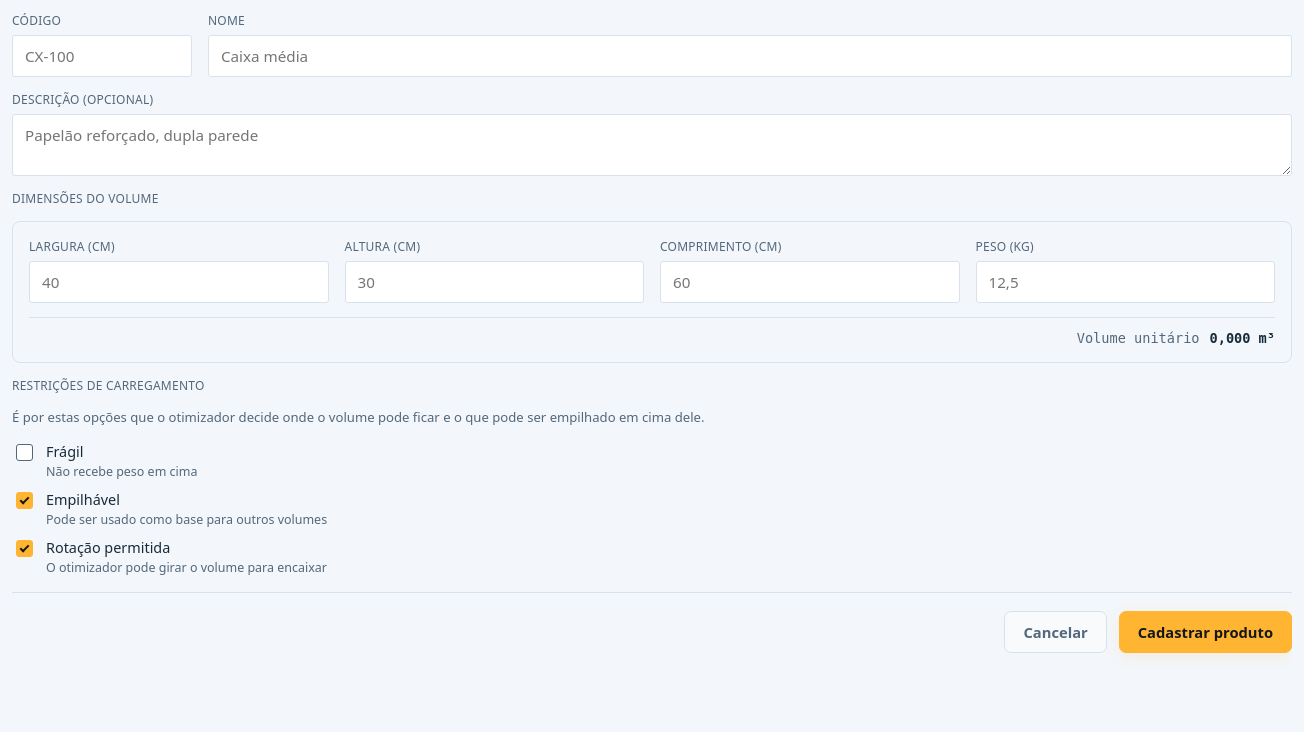
ProductForm › mostra a mensagem mapeada quando o código já existe
Type "pl-200" into the field labelled "CÓDIGO" at (102, 56), box top-left (12, 35), bottom-right (192, 77)
Type "Pallet padrão" into the field labelled "NOME" at (750, 56), box top-left (208, 35), bottom-right (1292, 77)
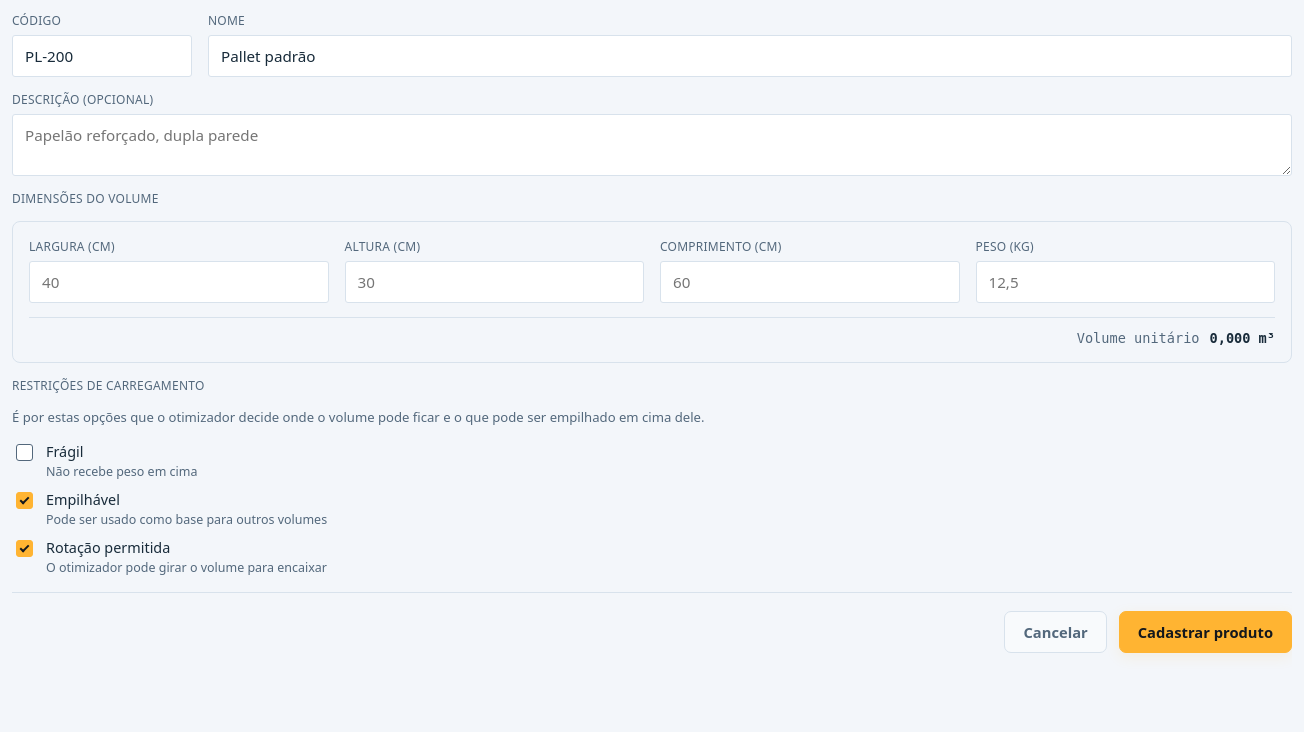
Type "100" into the number field labelled "LARGURA (CM)" at (179, 282), box top-left (29, 261), bottom-right (328, 303)
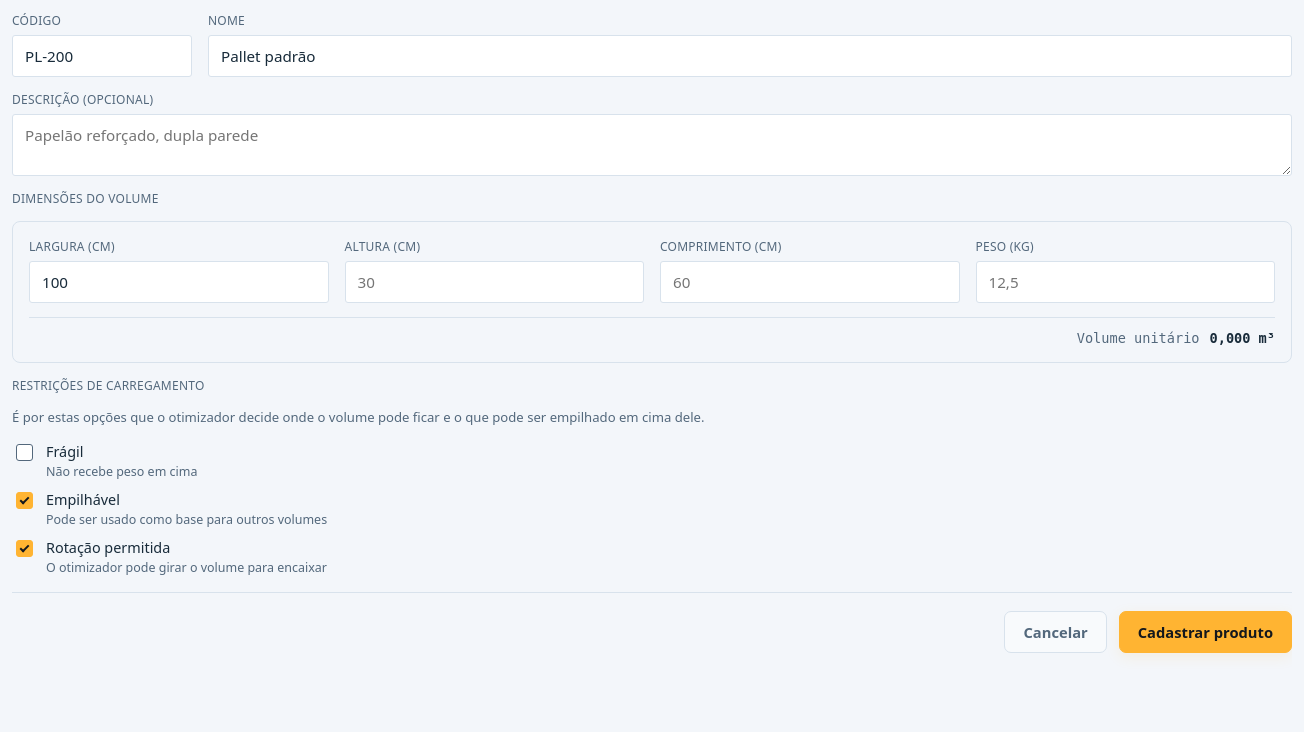
Type "120" into the number field labelled "ALTURA (CM)" at (494, 282), box top-left (344, 261), bottom-right (644, 303)
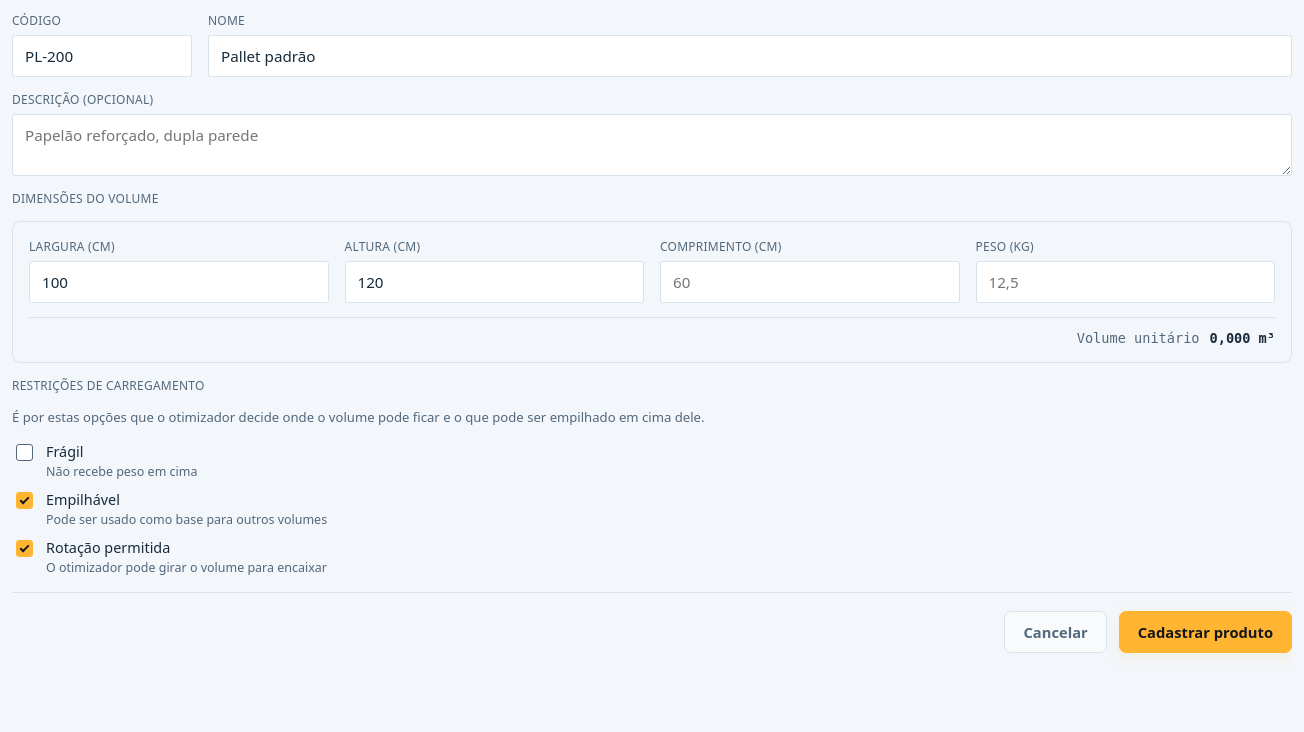
Type "120" into the number field labelled "COMPRIMENTO (CM)" at (810, 282), box top-left (660, 261), bottom-right (960, 303)
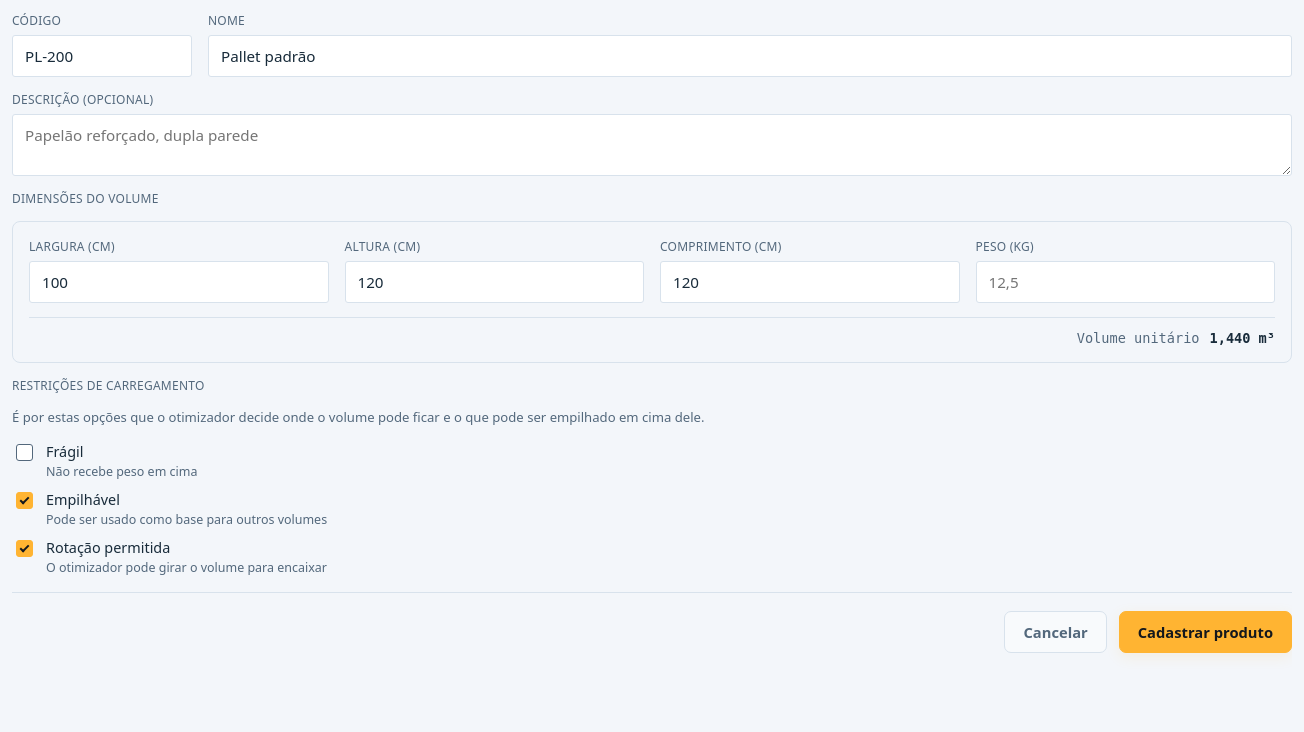
Type "25.5" into the number field labelled "PESO (KG)" at (1125, 282), box top-left (976, 261), bottom-right (1275, 303)
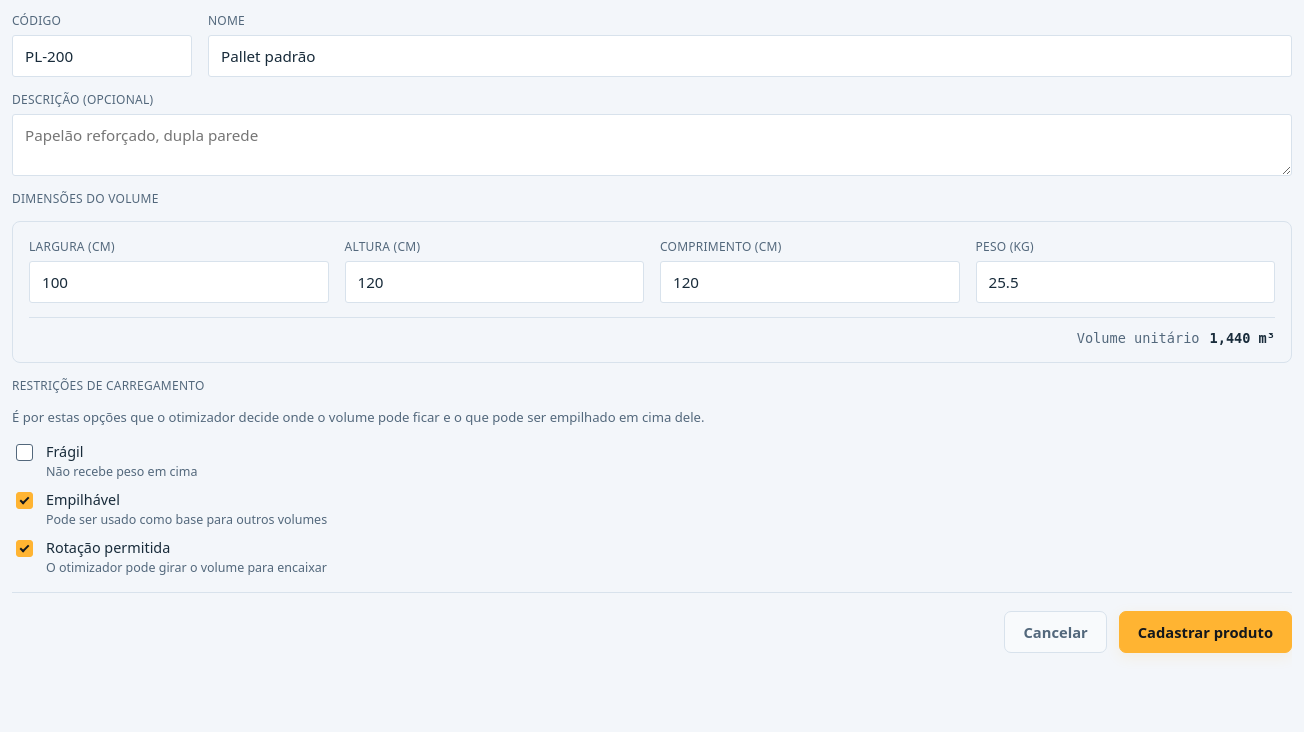
Click the button "Cadastrar produto" at (1205, 632), box top-left (1119, 611), bottom-right (1292, 653)
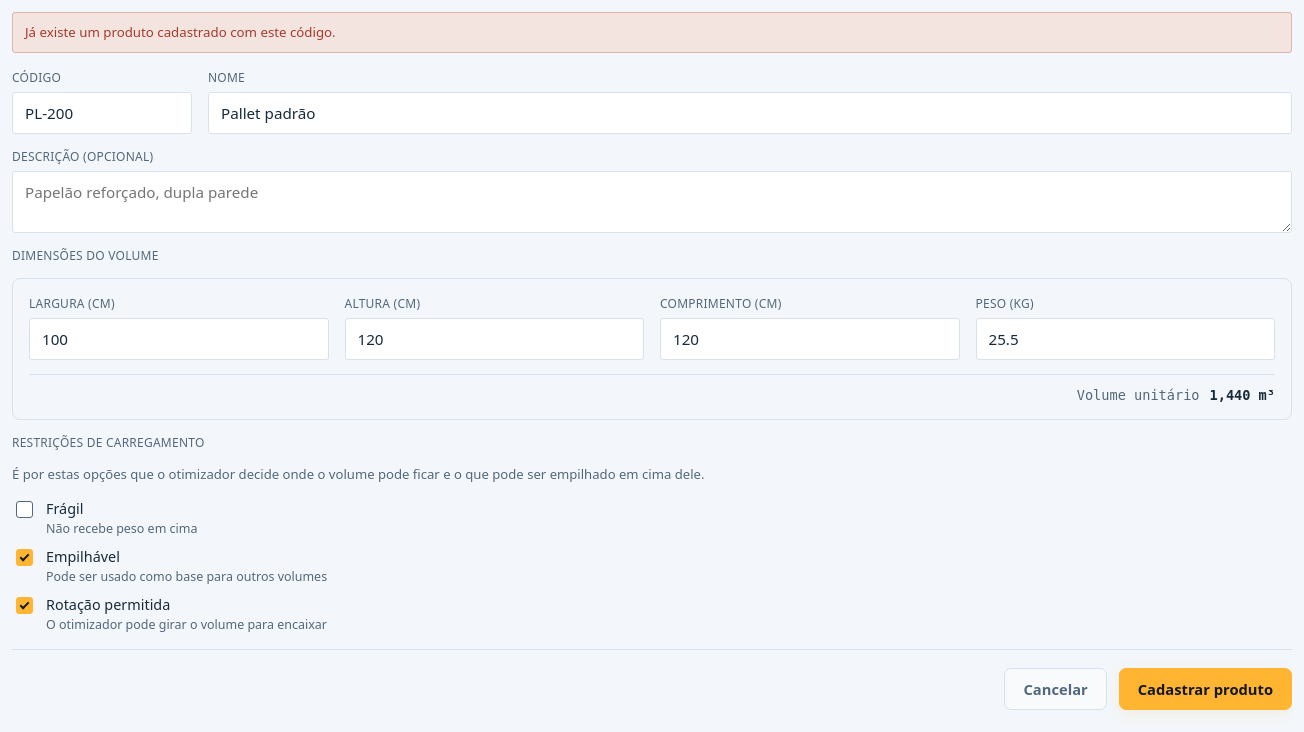
expect the message reads "Já existe um produto cadastrado com este código.": met, box top-left (25, 23), bottom-right (336, 41)
